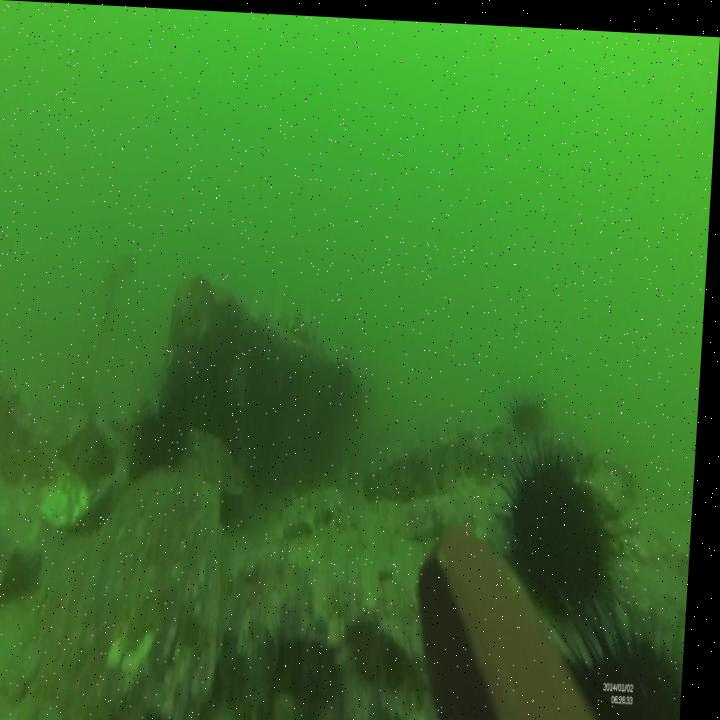echinus: (500, 425, 630, 619), (567, 600, 693, 720), (123, 394, 194, 481), (507, 379, 558, 438)
holothurian: (244, 296, 333, 352), (287, 480, 354, 537)
